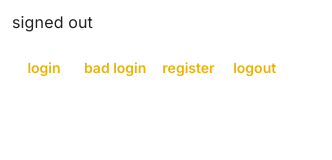
it: AuthContext › exposes the backend message when login fails and stores nothing
The image size is (332, 160).
Click the button "bad login" at (115, 68), box [76,50,154,86]
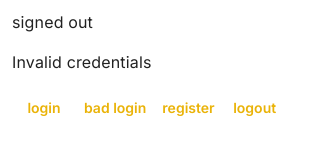
Now the text with test id "error" reads "Invalid credentials", box [12,52,152,72]
